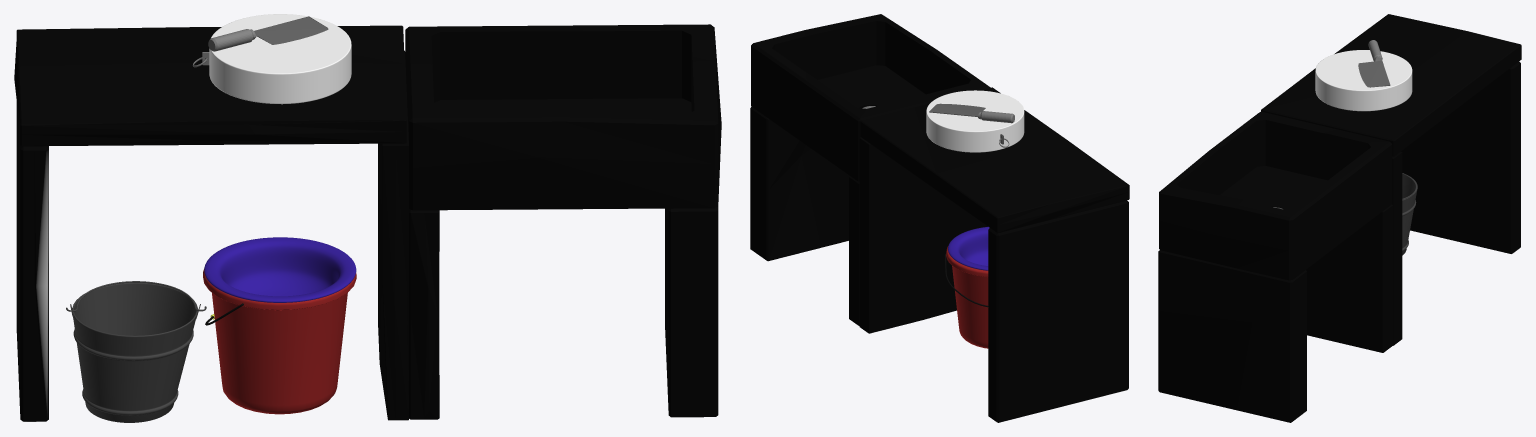
3 renders of one model, left to right at view 1: azimuth 30°, elevation 25°; view 2: azimuth 150°, elevation 25°; view 3: azimuth 270°, elevation 25°, orthographic. The views are drawn at different scales.
Visible parts, largest first — view 1: 3d66-PolyMeshObject-23795259-045, 3d66-Editable_mesh-23795259-102, 3d66-Editable_mesh-23795259-105, 3d66-PolyMeshObject-23795259-046, 3d66-Editable_mesh-23795259-104, 3d66-Editable_mesh-23795259-110; view 2: 3d66-PolyMeshObject-23795259-045, 3d66-PolyMeshObject-23795259-046, 3d66-Editable_mesh-23795259-105, 3d66-Editable_mesh-23795259-104, 3d66-Editable_mesh-23795259-110; view 3: 3d66-PolyMeshObject-23795259-045, 3d66-PolyMeshObject-23795259-046, 3d66-Editable_mesh-23795259-102, 3d66-Editable_mesh-23795259-110.
Part boxes in pixels (left/top/right/bottom): 3d66-PolyMeshObject-23795259-045: left=14, top=24, right=721, bottom=421; 3d66-Editable_mesh-23795259-102: left=66, top=281, right=206, bottom=422; 3d66-Editable_mesh-23795259-105: left=203, top=269, right=356, bottom=414; 3d66-PolyMeshObject-23795259-046: left=209, top=14, right=351, bottom=104; 3d66-Editable_mesh-23795259-104: left=204, top=237, right=356, bottom=302; 3d66-Editable_mesh-23795259-110: left=254, top=16, right=328, bottom=44; 3d66-PolyMeshObject-23795259-045: left=750, top=14, right=1129, bottom=422; 3d66-PolyMeshObject-23795259-046: left=926, top=90, right=1024, bottom=152; 3d66-Editable_mesh-23795259-105: left=946, top=246, right=988, bottom=348; 3d66-Editable_mesh-23795259-104: left=948, top=226, right=989, bottom=270; 3d66-Editable_mesh-23795259-110: left=929, top=103, right=985, bottom=116; 3d66-PolyMeshObject-23795259-045: left=1158, top=14, right=1521, bottom=422; 3d66-PolyMeshObject-23795259-046: left=1315, top=50, right=1412, bottom=111; 3d66-Editable_mesh-23795259-102: left=1402, top=173, right=1417, bottom=255; 3d66-Editable_mesh-23795259-110: left=1358, top=60, right=1390, bottom=87.
Bounding box in the file's own units: 1706 × 914 × 1267.
